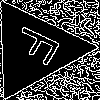F: (9, 23, 71, 72)
